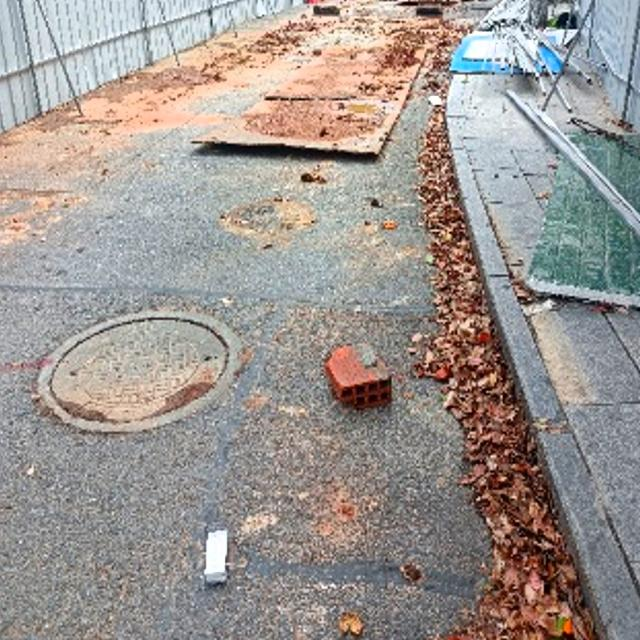good: (37, 309, 241, 429)
